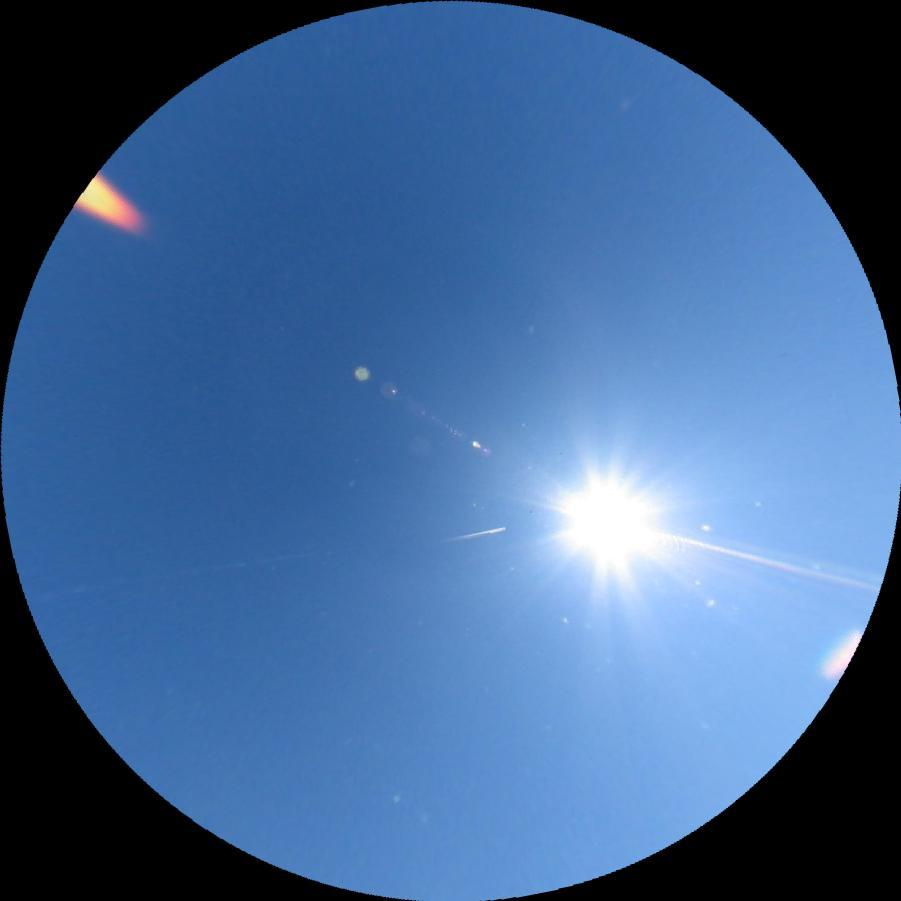contrail young: (437, 524, 505, 544)
parasite: (654, 528, 879, 592), (63, 548, 313, 593)
sun: (540, 454, 673, 585)
